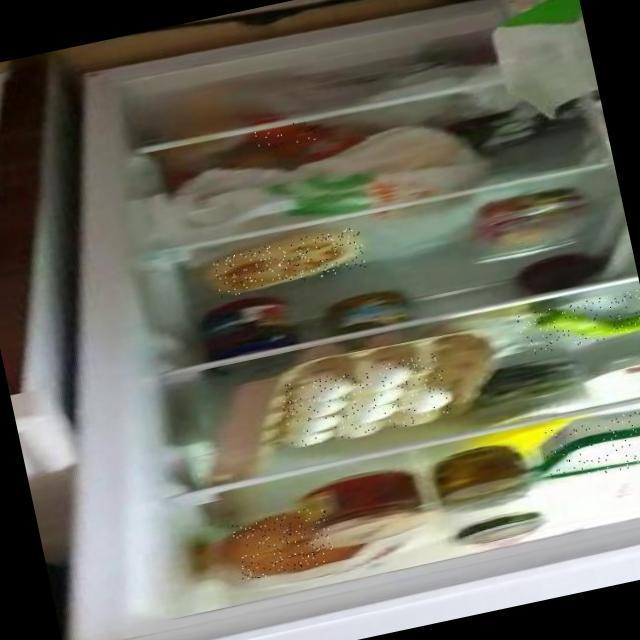Huevos: (278, 351, 452, 450)
bread: (211, 225, 366, 297), (230, 504, 335, 580)
cream: (539, 404, 640, 484)
green chilies: (514, 287, 640, 355)
tomato paste: (250, 118, 315, 151)
